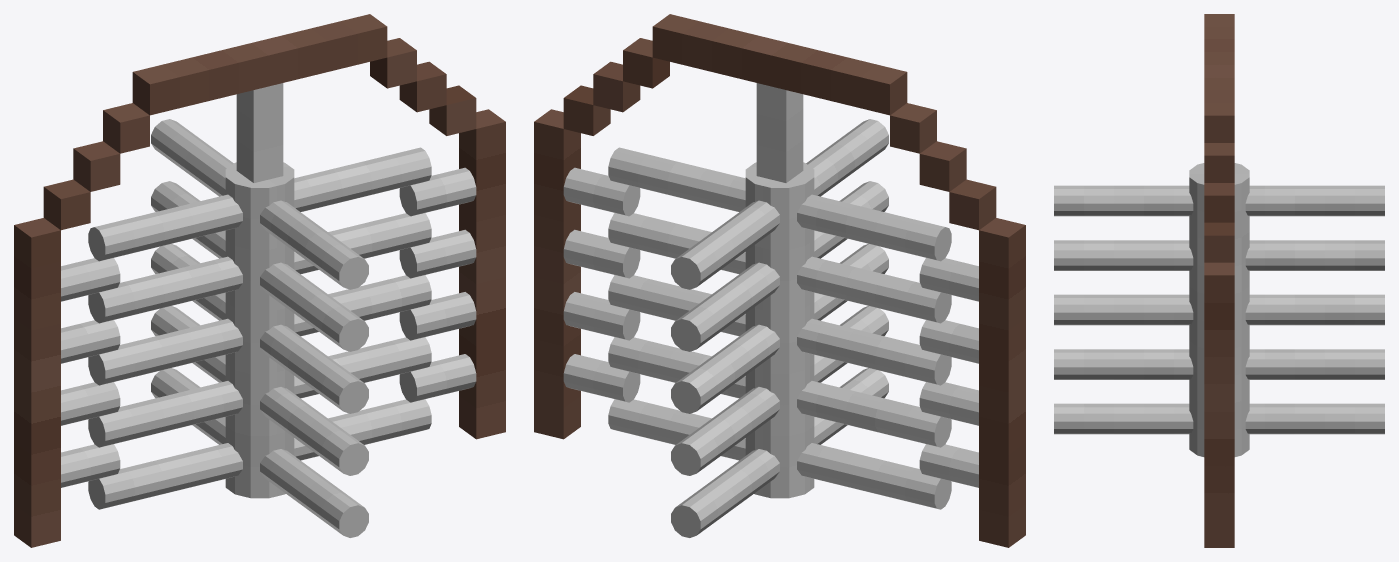
Rendered from exit.obj.
The picture shows the model from 3 angles, left to right: view 1: azimuth 30°, elevation 25°; view 2: azimuth 150°, elevation 25°; view 3: azimuth 270°, elevation 25°; orthographic projection. The views are drawn at different scales.
Parts seen in each view (by area): view 1: cube.010, cylinder, cube.009, cube.014, cylinder.013, cylinder.011, cylinder.009, cylinder.012, cylinder.010, cylinder.004, cube.018, cylinder.024 (+27 smaller); view 2: cube.010, cylinder, cube.009, cube.014, cylinder.013, cylinder.011, cylinder.009, cylinder.012, cylinder.010, cylinder.004, cube.018, cylinder.019 (+27 smaller); view 3: cube.009, cylinder, cylinder.018, cylinder.020, cylinder.022, cylinder.023, cylinder.025, cylinder.027, cylinder.019, cylinder.021, cylinder.024, cylinder.026 (+4 smaller).
Boxes of the visible parts, <box> form: cube.010: <box>14,218,60,547</box>; cylinder: <box>225,162,294,498</box>; cube.009: <box>459,109,505,439</box>; cube.014: <box>132,14,387,115</box>; cylinder.013: <box>88,194,242,261</box>; cylinder.011: <box>88,381,242,447</box>; cylinder.009: <box>88,256,242,323</box>; cylinder.012: <box>88,443,242,509</box>; cylinder.010: <box>88,318,242,385</box>; cylinder.004: <box>294,147,431,211</box>; cube.018: <box>236,83,283,182</box>; cylinder.024: <box>260,262,368,351</box>; cube.010: <box>979,218,1025,547</box>; cylinder: <box>745,162,814,498</box>; cube.009: <box>534,109,580,439</box>; cube.014: <box>652,14,907,115</box>; cylinder.013: <box>797,194,951,261</box>; cylinder.011: <box>797,381,951,447</box>; cylinder.009: <box>797,256,951,323</box>; cylinder.012: <box>797,443,951,509</box>; cylinder.010: <box>797,318,951,385</box>; cylinder.004: <box>608,147,745,211</box>; cube.018: <box>756,83,803,182</box>; cylinder.019: <box>671,262,779,351</box>; cube.009: <box>1204,262,1234,547</box>; cylinder: <box>1189,163,1249,456</box>; cylinder.018: <box>1245,185,1384,216</box>; cylinder.020: <box>1245,294,1384,325</box>; cylinder.022: <box>1245,403,1384,434</box>; cylinder.023: <box>1054,185,1193,216</box>; cylinder.025: <box>1054,294,1193,325</box>; cylinder.027: <box>1054,403,1193,434</box>; cylinder.019: <box>1245,240,1384,270</box>; cylinder.021: <box>1245,349,1384,379</box>; cylinder.024: <box>1054,240,1193,270</box>; cylinder.026: <box>1054,349,1193,379</box>.
Bounding box in the file's own units: 1 × 0.875 × 0.6875.
Materials: 1 (1 with a texture image).
